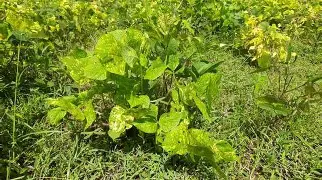crops: (2, 0, 319, 177), (234, 0, 316, 68), (0, 0, 56, 87), (246, 126, 319, 179), (22, 130, 99, 179), (254, 69, 318, 116), (87, 145, 166, 180), (122, 0, 189, 38), (183, 0, 238, 38), (64, 0, 110, 32)
